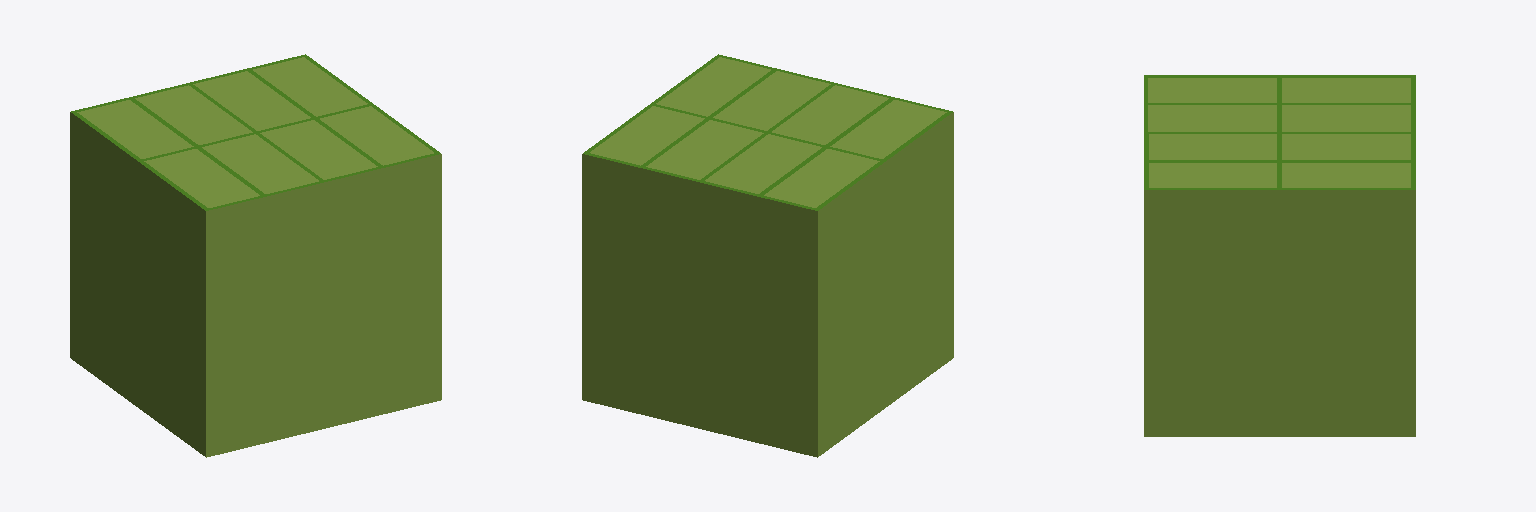
3 views of the same model, side by side, from view 1: azimuth 30°, elevation 25°; view 2: azimuth 150°, elevation 25°; view 3: azimuth 270°, elevation 25° (orthographic).
Visible parts, largest first — view 1: Cube; view 2: Cube; view 3: Cube.
Part boxes in pixels (x1,y1,x2,y2): Cube: (70,54,441,457); Cube: (582,54,953,457); Cube: (1144,75,1415,436).
Bounding box in the file's own units: 2 × 2 × 2.
Materials: 1 (1 with a texture image).